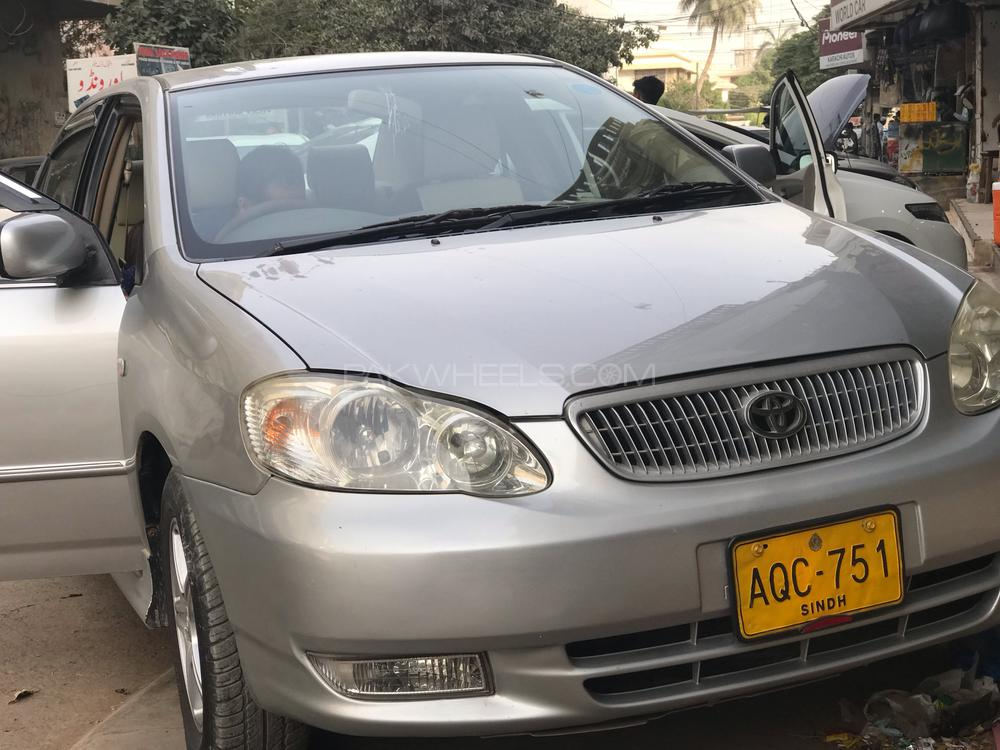license plate: (730, 537, 912, 626)
